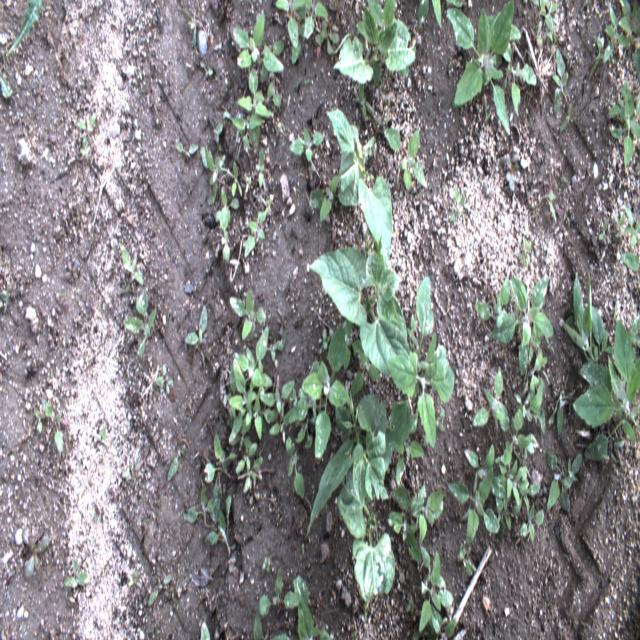crop: (306, 334, 428, 606), (563, 258, 638, 462), (306, 236, 404, 375), (472, 272, 556, 430), (386, 270, 457, 454), (446, 2, 540, 137), (326, 104, 395, 258), (328, 0, 417, 89), (603, 82, 638, 172)
weed: (228, 320, 310, 452), (298, 321, 358, 460), (252, 557, 333, 636), (219, 65, 284, 158), (446, 440, 504, 540), (383, 480, 448, 562), (405, 549, 462, 636), (273, 2, 347, 69), (500, 405, 539, 524), (584, 0, 638, 85), (1, 0, 46, 99), (181, 482, 235, 556), (229, 10, 286, 78), (383, 123, 427, 193), (469, 371, 514, 432), (124, 289, 160, 363), (26, 396, 68, 459), (545, 447, 585, 511), (226, 285, 270, 338), (547, 34, 572, 121), (178, 299, 211, 363), (243, 191, 274, 258), (20, 524, 54, 585), (202, 434, 240, 486), (288, 120, 325, 172), (201, 135, 229, 202), (118, 238, 150, 295), (532, 0, 562, 59), (174, 3, 208, 55), (237, 439, 263, 507), (282, 434, 306, 507), (147, 556, 178, 612), (536, 162, 561, 228), (59, 552, 90, 604), (310, 172, 338, 225), (164, 434, 191, 485), (514, 502, 546, 542), (76, 104, 98, 161), (612, 200, 638, 247), (502, 140, 522, 198), (215, 182, 238, 232), (110, 458, 136, 501), (551, 385, 570, 443), (231, 155, 251, 206), (446, 178, 466, 226), (414, 0, 443, 33), (262, 605, 298, 630), (154, 358, 176, 398), (61, 250, 84, 288), (214, 227, 238, 262), (457, 538, 477, 580), (0, 264, 15, 319), (135, 434, 152, 482), (121, 565, 146, 596), (515, 230, 534, 270), (351, 90, 378, 118), (186, 568, 217, 592), (254, 141, 268, 190), (43, 126, 62, 161), (547, 552, 564, 591), (560, 97, 576, 138), (197, 52, 217, 84), (173, 139, 200, 162), (275, 304, 292, 338), (618, 251, 638, 279), (0, 558, 16, 592), (604, 509, 622, 538), (31, 76, 48, 105), (554, 161, 570, 191), (213, 116, 227, 150), (92, 418, 106, 451), (47, 325, 60, 359), (303, 68, 321, 90), (599, 214, 611, 246), (259, 552, 274, 576), (297, 538, 312, 562), (200, 613, 213, 637), (481, 102, 492, 129)
